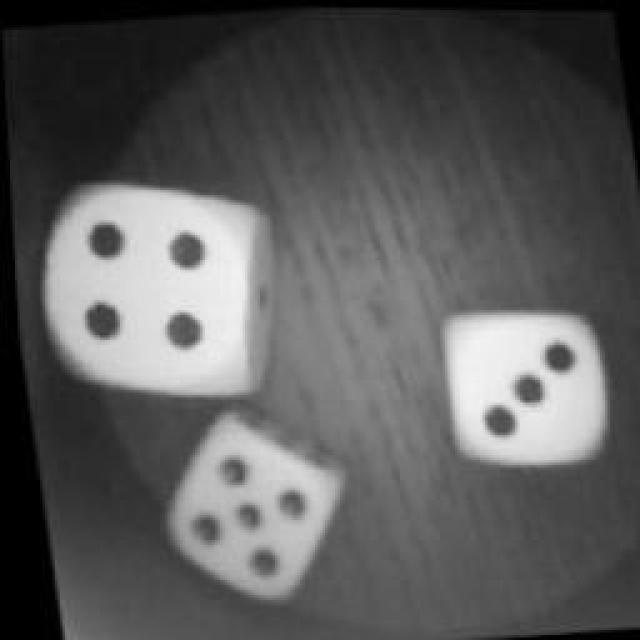dice_3: (420, 288, 620, 484)
dice_4: (11, 165, 281, 417)
dice_5: (141, 402, 344, 612)
